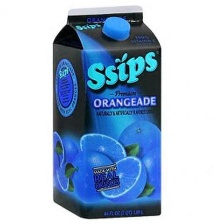carton: (49, 2, 173, 223)
